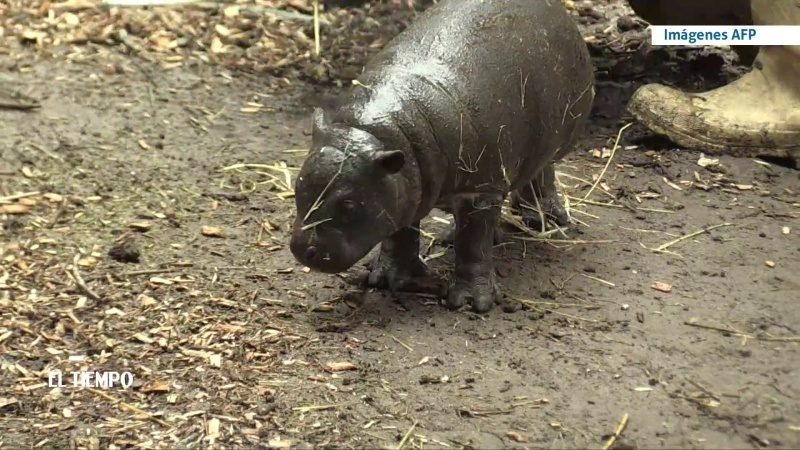hipopotamo: (273, 1, 615, 325)
